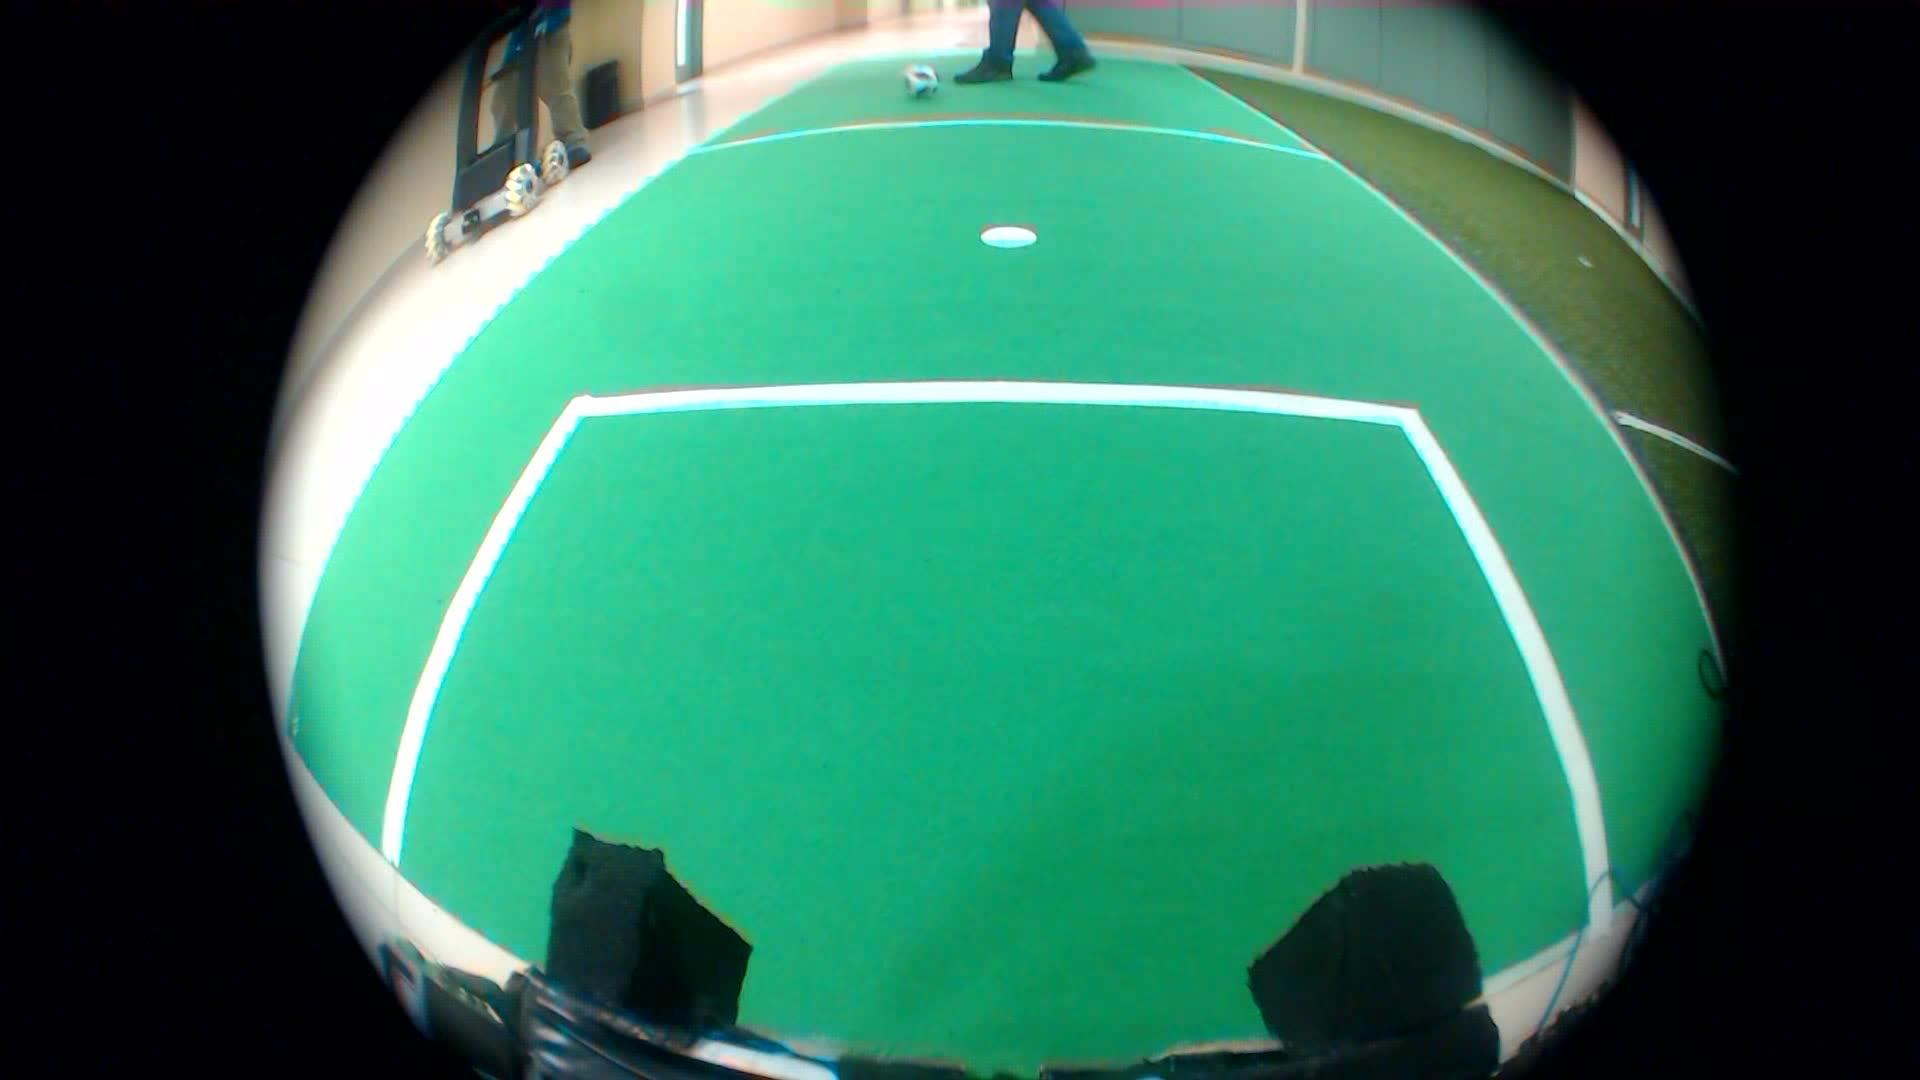ball: (887, 47, 935, 100)
